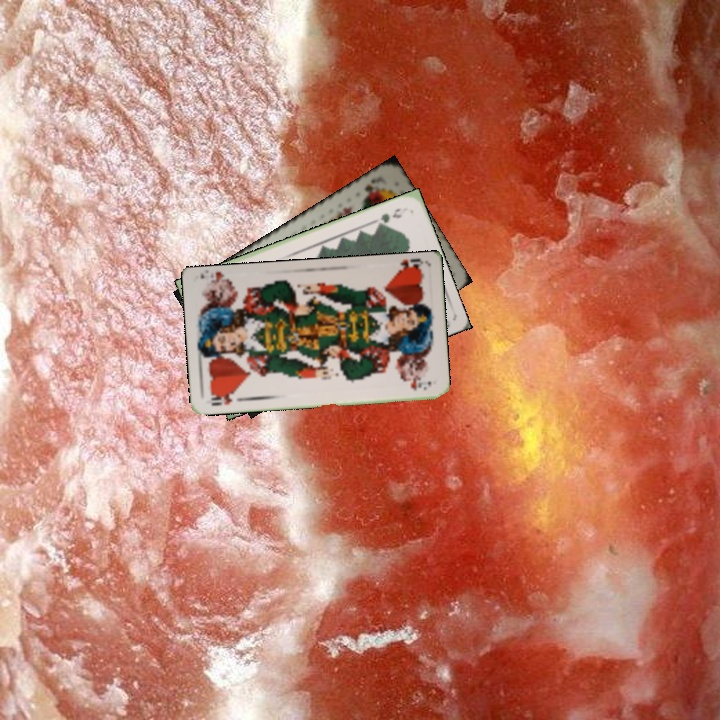G9: (370, 204, 404, 229)
HO: (392, 255, 425, 276), (207, 388, 237, 408)
SK: (358, 175, 379, 202)
